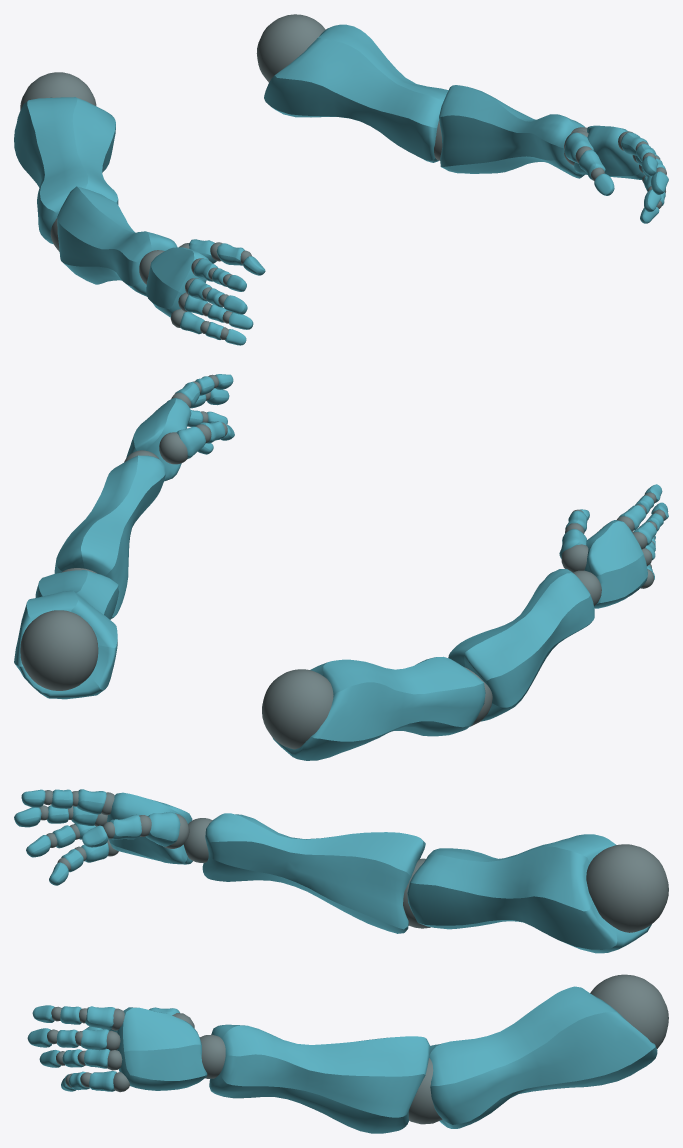
The model's file is Player.fbx.
3 views of the same model, one above another, from view 1: azimuth 30°, elevation 25°; view 2: azimuth 150°, elevation 25°; view 3: azimuth 270°, elevation 25° (orthographic). The views are drawn at different scales.
Parts seen in each view (by area): view 1: Alpha_Surface.001; view 2: Alpha_Surface.001; view 3: Alpha_Surface.001.
Boxes of the visible parts, x1,y1,x2,y2 form: Alpha_Surface.001: [14, 14, 668, 345]; Alpha_Surface.001: [14, 374, 668, 760]; Alpha_Surface.001: [14, 789, 668, 1133].
Bounding box in the file's own units: 1.74 × 1.78 × 0.4532.
